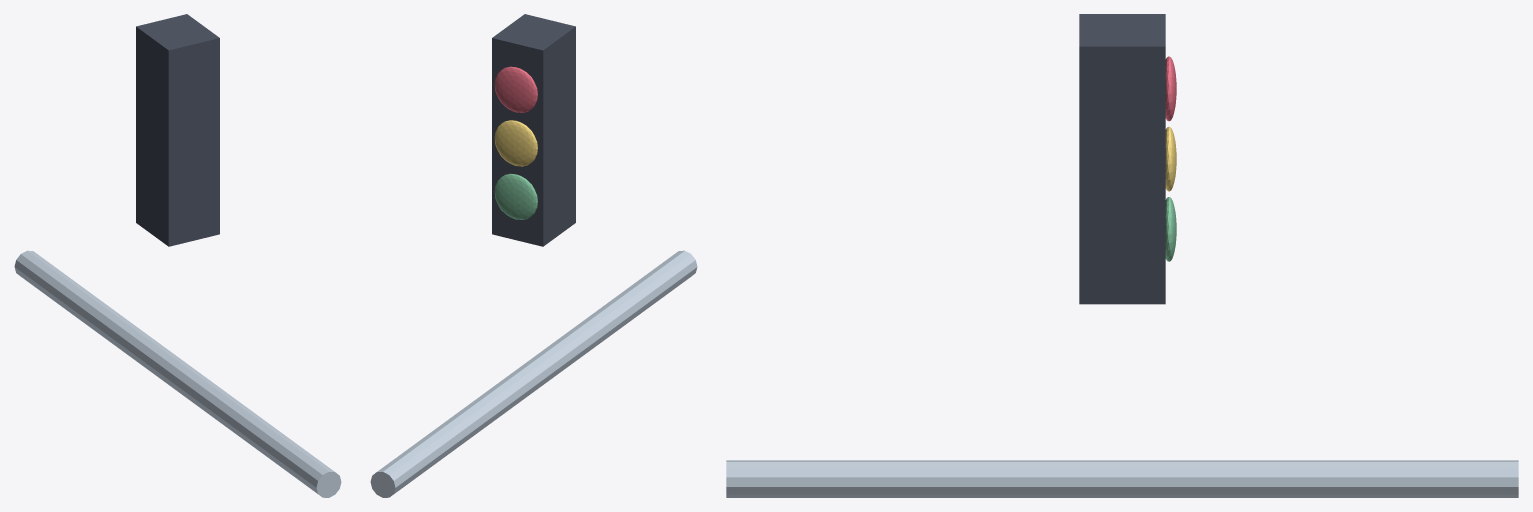
File: semaforo.glb
3 views of the same model, side by side, from view 1: azimuth 30°, elevation 25°; view 2: azimuth 150°, elevation 25°; view 3: azimuth 270°, elevation 25° (orthographic). The views are drawn at different scales.
Visible parts, largest first — view 1: Housing_2, TrafficPole_1; view 2: Housing_2, TrafficPole_1, Yellow_4, Green_5, Red_3; view 3: TrafficPole_1, Housing_2.
Part boxes in pixels (bbox=[...]): Housing_2: bbox=[136, 14, 219, 246]; TrafficPole_1: bbox=[14, 250, 341, 497]; Housing_2: bbox=[492, 14, 575, 246]; TrafficPole_1: bbox=[370, 250, 697, 497]; Yellow_4: bbox=[494, 120, 537, 166]; Green_5: bbox=[494, 173, 537, 219]; Red_3: bbox=[494, 66, 537, 112]; TrafficPole_1: bbox=[726, 460, 1518, 497]; Housing_2: bbox=[1079, 14, 1165, 304].
Size of the model in its own units: 0.45 by 2.98 by 4.6.
